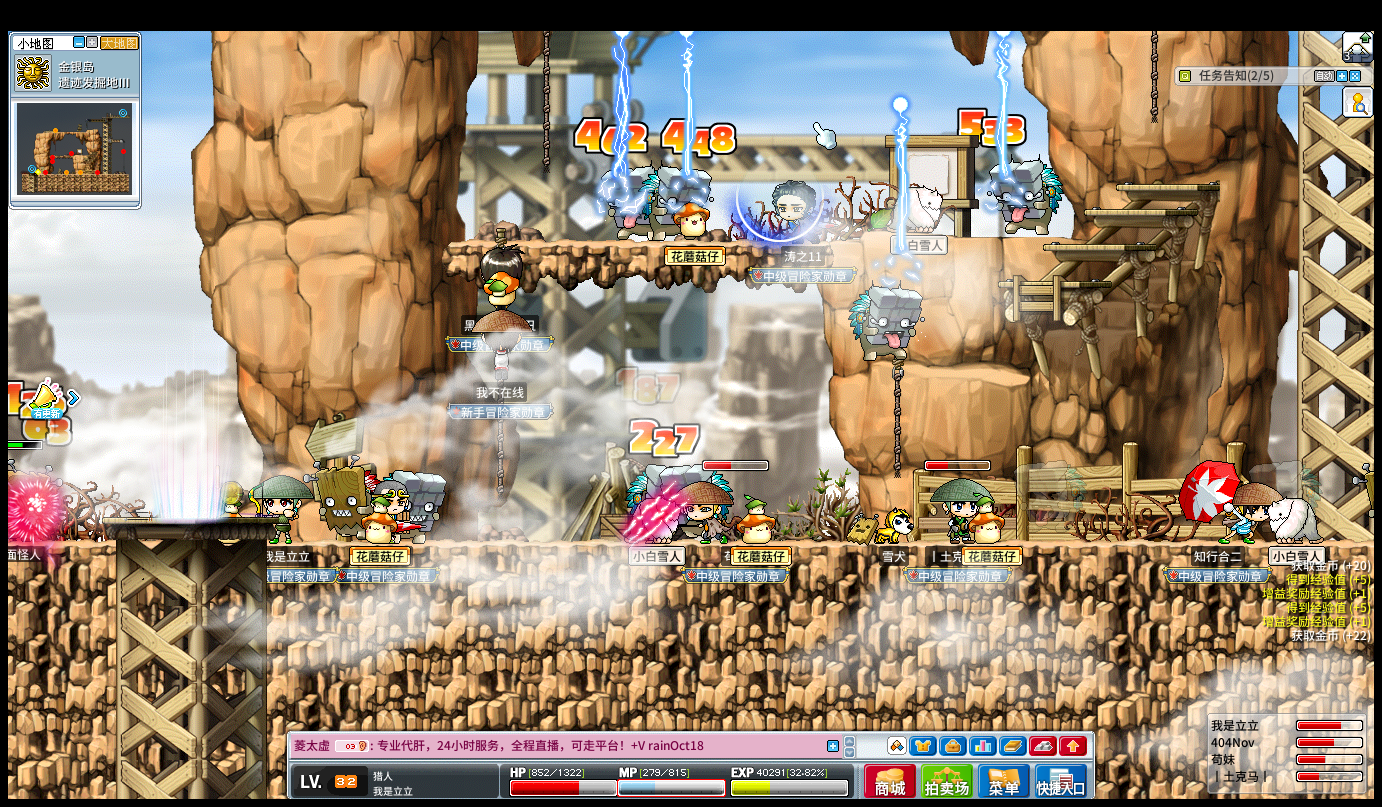floor: (266, 535, 1373, 551), (444, 238, 830, 249), (924, 365, 1031, 384), (950, 233, 1094, 244), (102, 516, 276, 525), (7, 539, 115, 550), (997, 279, 1108, 288), (1083, 207, 1194, 216), (1046, 242, 1161, 250), (1116, 184, 1220, 191), (1115, 183, 1218, 190)
monster: (847, 284, 923, 361), (311, 459, 379, 541), (637, 164, 712, 238), (993, 158, 1062, 235), (601, 163, 654, 240), (622, 466, 673, 540), (400, 471, 448, 538)
rope: (889, 356, 903, 477), (542, 28, 551, 175), (1148, 31, 1157, 122)
